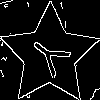Y: (25, 30, 79, 85)
